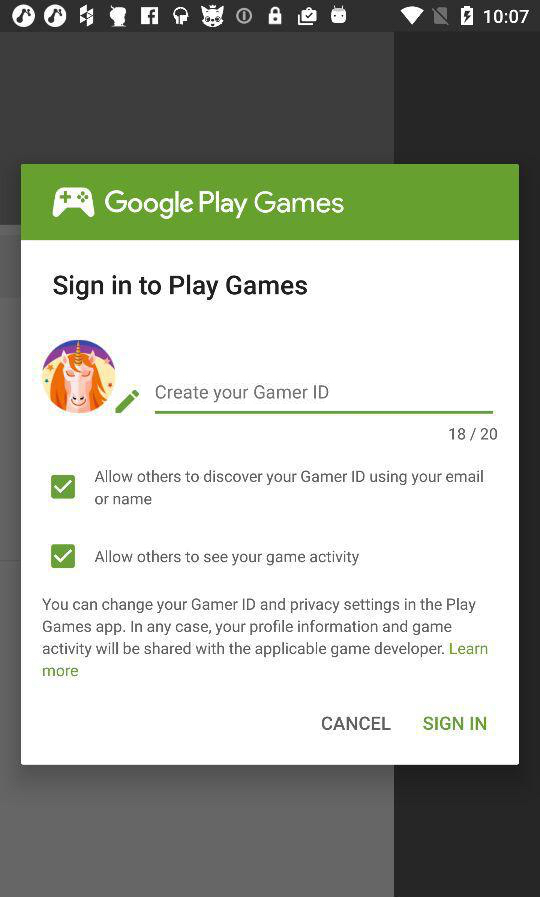CheckedTextView: (51, 470, 484, 507), (51, 544, 360, 569)
EditText: (155, 384, 494, 415)
Icon: (116, 390, 141, 414)
Image: (42, 340, 116, 414), (52, 187, 96, 219)
Modal: (21, 164, 519, 766)
Text: (42, 597, 488, 678), (95, 470, 484, 506), (105, 190, 345, 221), (53, 274, 309, 302), (95, 549, 360, 567), (156, 385, 329, 403), (322, 716, 392, 731), (422, 716, 487, 731), (449, 427, 498, 443)
UpperTaskBar: (1, 1, 540, 33)
